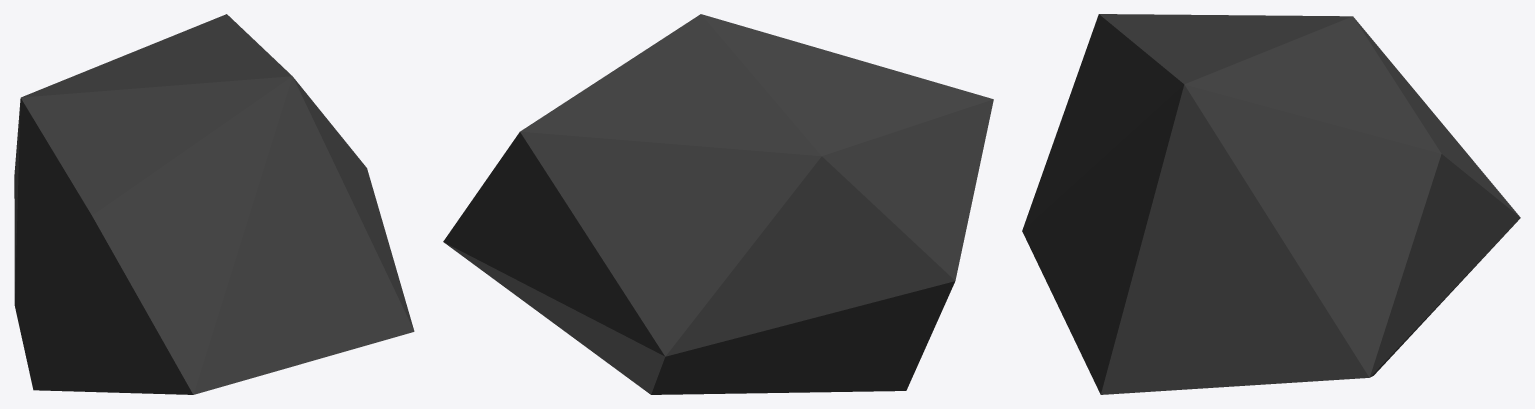
The model's file is stone2.fbx.
3 renders of one model, left to right at view 1: azimuth 30°, elevation 25°; view 2: azimuth 150°, elevation 25°; view 3: azimuth 270°, elevation 25°, orthographic. The views are drawn at different scales.
Parts seen in each view (by area): view 1: Stone2; view 2: Stone2; view 3: Stone2.
Part boxes in pixels (x1,y1,x2,y2): Stone2: [14, 14, 414, 394]; Stone2: [443, 14, 993, 394]; Stone2: [1022, 14, 1520, 394].
Bounding box in the file's own units: 1.18 × 0.7746 × 1.12.
